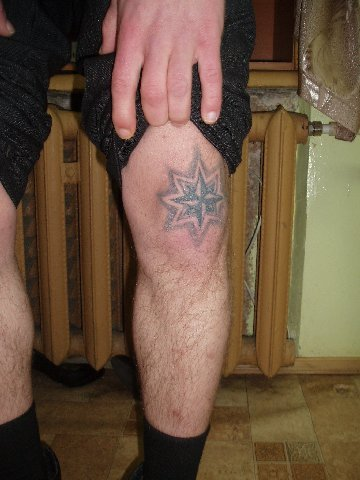tatu4_zvezda: (152, 145, 233, 249)
